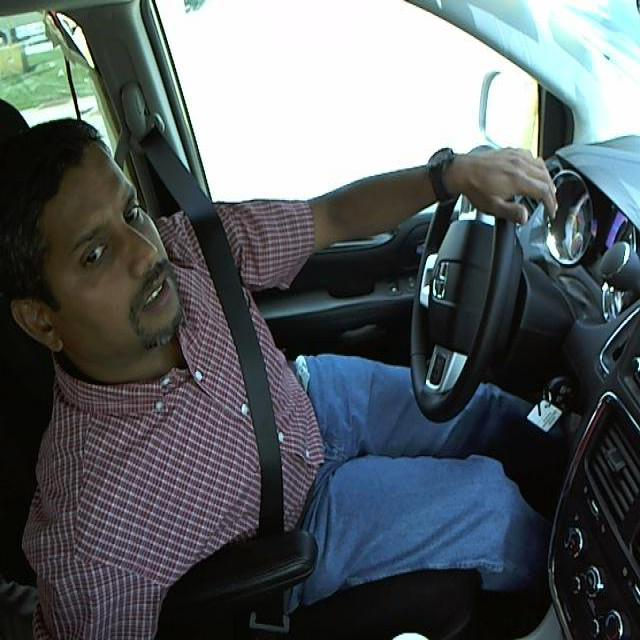seatbelt: (197, 234, 303, 534)
